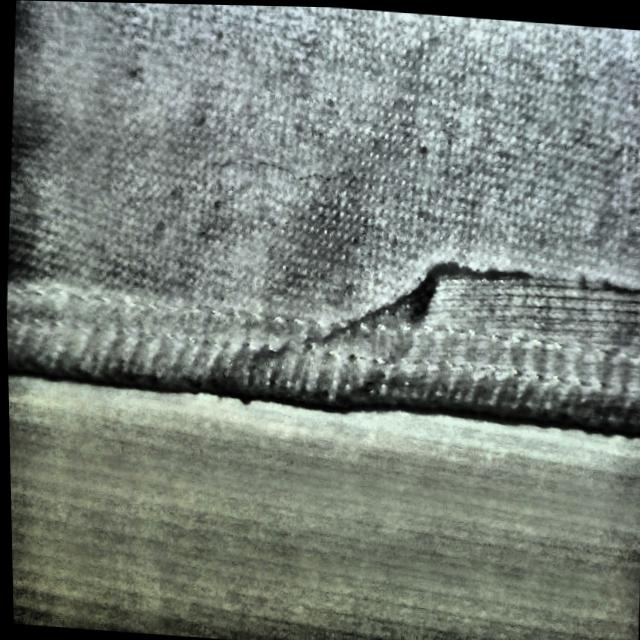seam: (346, 207, 640, 449)
